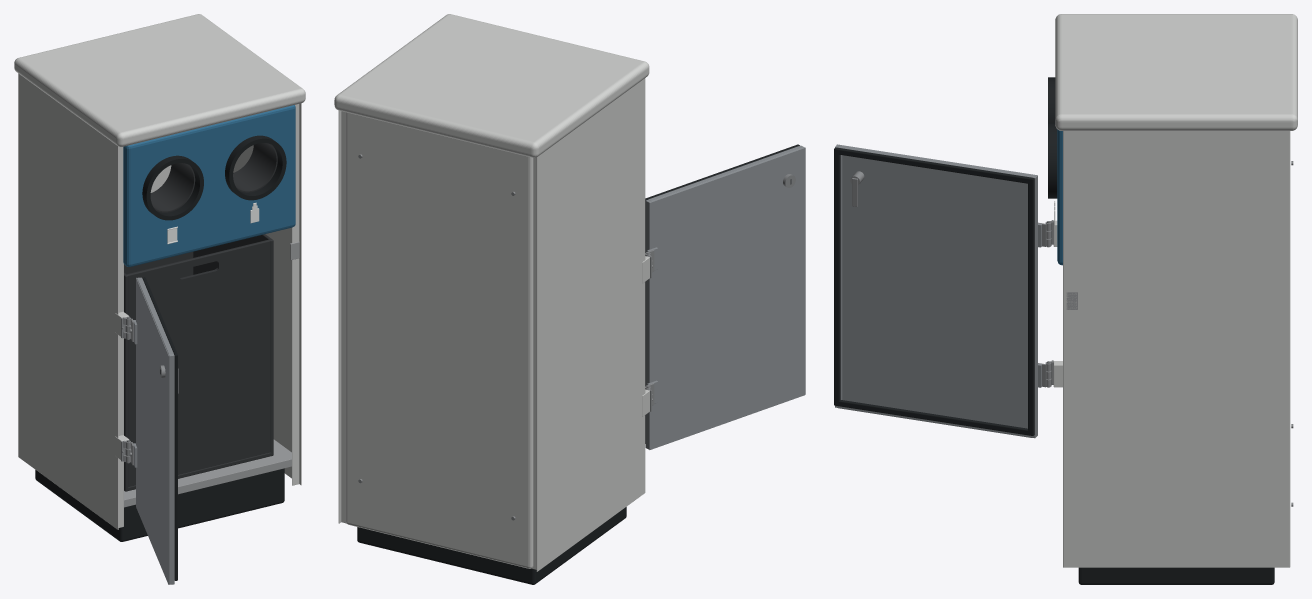
File: service_open.glb
The picture shows the model from 3 angles, left to right: view 1: azimuth 30°, elevation 25°; view 2: azimuth 150°, elevation 25°; view 3: azimuth 270°, elevation 25°; orthographic projection. The views are drawn at different scales.
Visible parts, largest first — view 1: Two millimetre folded side sheet, Liner front or rear, Weather cap, Blue sorting aperture fascia, Two millimetre painted door skin, Two millimetre folded side sheet.001, Recessed plinth, Side sheet folded return.002, Cabinet floor, Side sheet folded return, Liner side.001, Deep insertion chute.001 (+9 smaller); view 2: Rear cabinet panel, Two millimetre folded side sheet, Two millimetre painted door skin, Weather cap, Recessed plinth, Side sheet folded return.003, Two millimetre folded side sheet.001, Side sheet folded return.001, Door folded vertical return, Door folded horizontal return.001; view 3: Two millimetre folded side sheet.001, Two millimetre painted door skin, Weather cap, Recessed plinth, Door moving perimeter seal, Door moving perimeter seal.001, Door moving perimeter seal.003, Door moving perimeter seal.002, Door folded vertical return, Blue sorting aperture fascia, Door folded vertical return.001, Rounded insertion collar.001 (+1 smaller).
Boxes of the visible parts, x1=… form: Two millimetre folded side sheet: x1=18, y1=73, x2=118, y2=529; Liner front or rear: x1=126, y1=239, x2=270, y2=486; Weather cap: x1=14, y1=14, x2=305, y2=146; Blue sorting aperture fascia: x1=123, y1=105, x2=295, y2=266; Two millimetre painted door skin: x1=136, y1=277, x2=169, y2=584; Two millimetre folded side sheet.001: x1=233, y1=103, x2=301, y2=485; Recessed plinth: x1=35, y1=468, x2=284, y2=541; Side sheet folded return.002: x1=292, y1=104, x2=299, y2=485; Cabinet floor: x1=124, y1=439, x2=291, y2=507; Side sheet folded return: x1=118, y1=147, x2=123, y2=527; Liner side.001: x1=193, y1=234, x2=273, y2=455; Deep insertion chute.001: x1=233, y1=143, x2=277, y2=192; Rear cabinet panel: x1=345, y1=112, x2=533, y2=568; Two millimetre folded side sheet: x1=536, y1=78, x2=645, y2=571; Two millimetre painted door skin: x1=649, y1=147, x2=805, y2=449; Weather cap: x1=334, y1=14, x2=649, y2=157; Recessed plinth: x1=357, y1=507, x2=626, y2=584; Side sheet folded return.003: x1=341, y1=111, x2=345, y2=523; Two millimetre folded side sheet.001: x1=338, y1=110, x2=341, y2=523; Side sheet folded return.001: x1=532, y1=157, x2=536, y2=569; Door folded vertical return: x1=645, y1=200, x2=651, y2=449; Door folded horizontal return.001: x1=648, y1=146, x2=801, y2=201; Two millimetre folded side sheet.001: x1=1063, y1=131, x2=1290, y2=567; Two millimetre painted door skin: x1=837, y1=144, x2=1037, y2=435; Weather cap: x1=1055, y1=14, x2=1297, y2=130; Recessed plinth: x1=1078, y1=567, x2=1274, y2=584; Door moving perimeter seal: x1=1028, y1=177, x2=1034, y2=435; Door moving perimeter seal.001: x1=834, y1=147, x2=840, y2=405; Door moving perimeter seal.003: x1=837, y1=148, x2=1030, y2=183; Door moving perimeter seal.002: x1=837, y1=400, x2=1029, y2=435; Door folded vertical return: x1=1031, y1=175, x2=1037, y2=438; Blue sorting aperture fascia: x1=1057, y1=129, x2=1062, y2=265; Door folded vertical return.001: x1=835, y1=145, x2=842, y2=407; Rounded insertion collar.001: x1=1048, y1=123, x2=1057, y2=198.
Bounding box in the file's own units: 0.5982 × 1.02 × 0.8988.
